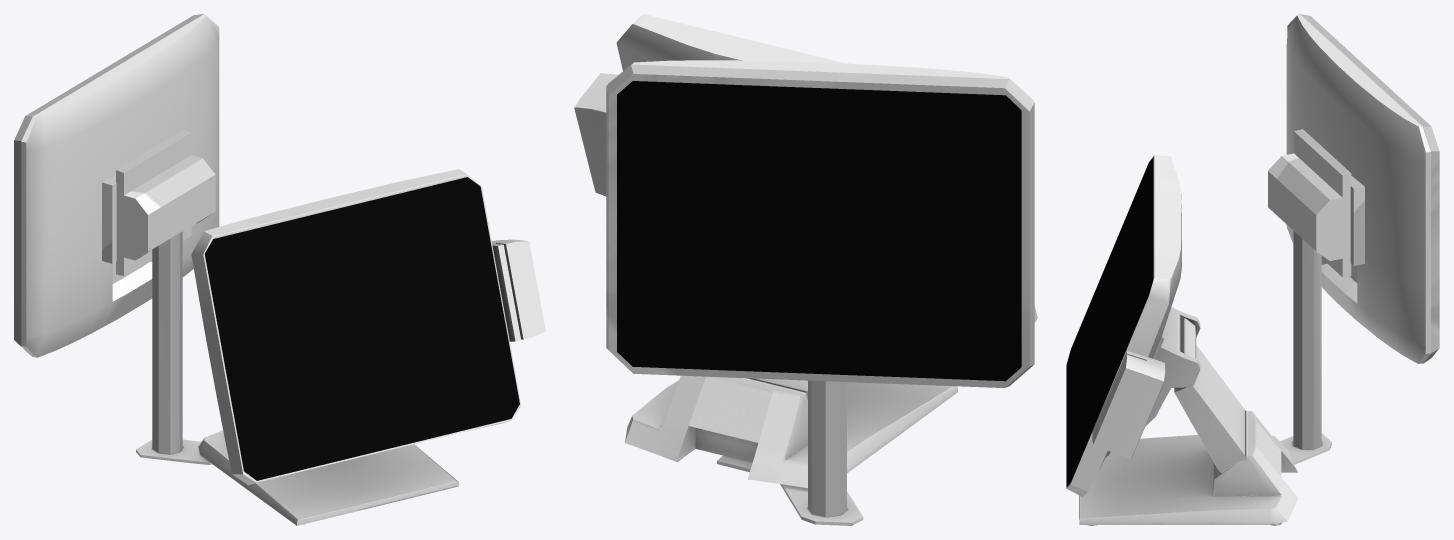
Rendered from UPOS_211_2nd_Display.fbx.
The picture shows the model from 3 angles, left to right: view 1: azimuth 30°, elevation 25°; view 2: azimuth 150°, elevation 25°; view 3: azimuth 270°, elevation 25°; orthographic projection. The views are drawn at different scales.
Parts seen in each view (by area): view 1: A, I, C, K, D, B, L, F, H, M; view 2: J, D, H, B, L, I, F, M; view 3: I, D, A, K, B, L, G, F, H, E, C, M.
Part boxes in pixels (x1=…): A: x1=215, y1=189, x2=509, y2=468; I: x1=21, y1=14, x2=219, y2=357; C: x1=205, y1=177, x2=519, y2=480; K: x1=102, y1=129, x2=215, y2=275; D: x1=198, y1=430, x2=458, y2=525; B: x1=191, y1=169, x2=521, y2=485; L: x1=152, y1=231, x2=182, y2=453; F: x1=491, y1=239, x2=545, y2=341; H: x1=14, y1=14, x2=204, y2=356; M: x1=136, y1=439, x2=212, y2=464; J: x1=617, y1=81, x2=1021, y2=381; D: x1=625, y1=375, x2=957, y2=488; H: x1=606, y1=64, x2=1034, y2=387; B: x1=616, y1=14, x2=1037, y2=323; L: x1=808, y1=380, x2=846, y2=516; I: x1=607, y1=60, x2=1034, y2=101; F: x1=574, y1=73, x2=618, y2=196; M: x1=717, y1=455, x2=863, y2=525; I: x1=1286, y1=14, x2=1430, y2=363; D: x1=1079, y1=410, x2=1297, y2=525; A: x1=1071, y1=168, x2=1148, y2=475; K: x1=1268, y1=129, x2=1364, y2=277; B: x1=1066, y1=155, x2=1181, y2=496; L: x1=1293, y1=231, x2=1321, y2=449; G: x1=1174, y1=318, x2=1245, y2=473; F: x1=1092, y1=351, x2=1165, y2=458; H: x1=1299, y1=14, x2=1439, y2=363; E: x1=1106, y1=307, x2=1200, y2=456; C: x1=1066, y1=158, x2=1153, y2=486; M: x1=1280, y1=433, x2=1331, y2=464.
Size of the model in its own units: 52.7 by 43.66 by 40.44.
Materials: 1 (1 with a texture image).
